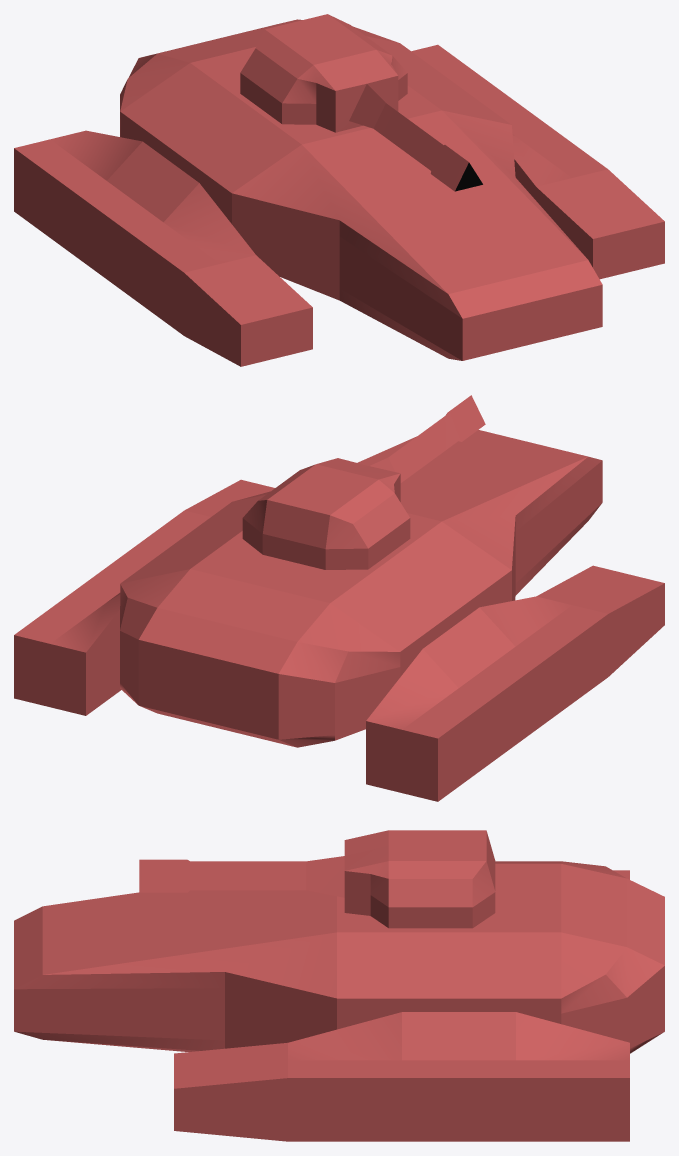
Rendered from enemyTank01.fbx.
3 renders of one model, top to bottom at view 1: azimuth 30°, elevation 25°; view 2: azimuth 150°, elevation 25°; view 3: azimuth 270°, elevation 25°, orthographic.
Visible parts, largest first — view 1: enemyTank01_body, enemyTank01_treads, enemyTank01_turret; view 2: enemyTank01_body, enemyTank01_treads, enemyTank01_turret; view 3: enemyTank01_body, enemyTank01_treads, enemyTank01_turret.
Part boxes in pixels (x1,y1,x2,y2): enemyTank01_body: (120,19,602,360); enemyTank01_treads: (14,44,664,366); enemyTank01_turret: (240,14,482,191); enemyTank01_body: (120,430,602,747); enemyTank01_treads: (14,479,664,801); enemyTank01_turret: (242,395,485,569); enemyTank01_body: (14,861,664,1053); enemyTank01_treads: (174,870,629,1141); enemyTank01_turret: (139,830,495,928).
Size of the model in its own units: 175 by 75.37 by 232.
